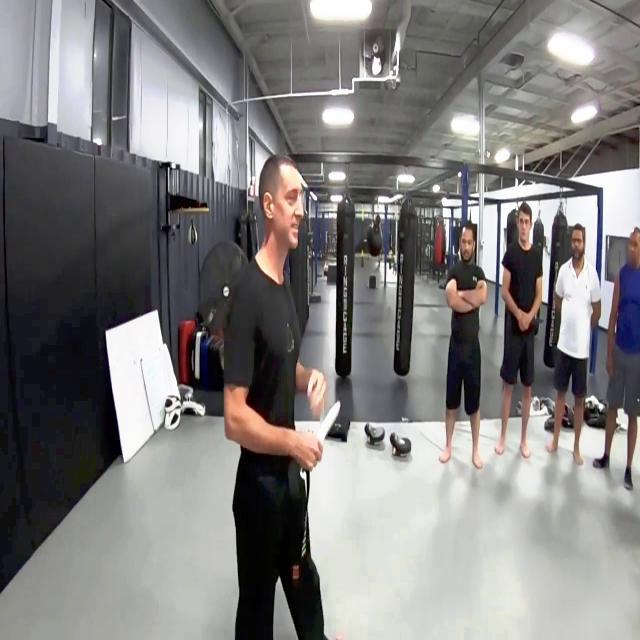Knife: (300, 397, 362, 479)
